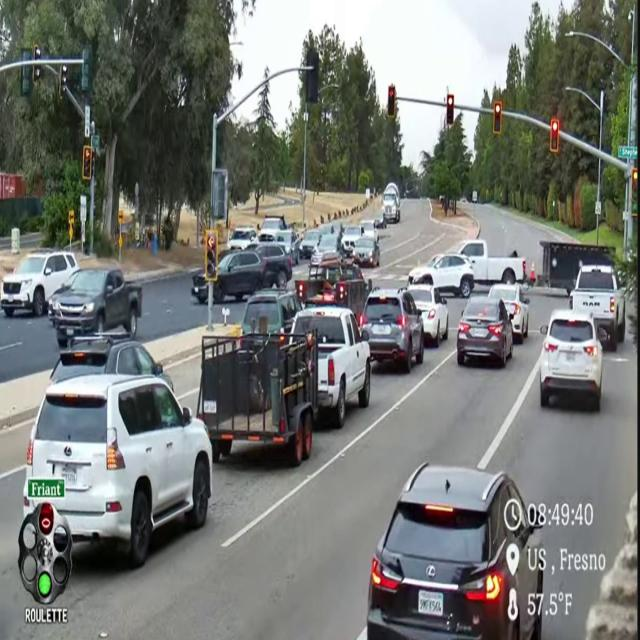car: (24, 375, 212, 567), (367, 463, 543, 639), (50, 333, 173, 390), (540, 310, 606, 411), (359, 288, 424, 373), (0, 251, 78, 317), (457, 296, 513, 366), (241, 289, 301, 341), (408, 255, 474, 298), (407, 284, 449, 346), (489, 284, 529, 343), (311, 234, 342, 264), (352, 237, 380, 267), (227, 227, 257, 250), (341, 225, 363, 255), (300, 229, 320, 259), (361, 220, 378, 243), (374, 209, 387, 229)
traffic signal: (306, 49, 319, 103), (205, 230, 217, 281), (38, 504, 54, 535), (81, 46, 91, 93), (20, 65, 32, 96), (82, 145, 92, 181), (550, 119, 559, 153), (387, 85, 396, 119), (493, 101, 502, 135), (59, 65, 68, 98), (446, 94, 454, 126), (32, 64, 41, 81), (632, 167, 638, 184)
truck: (197, 332, 318, 466), (292, 307, 371, 428), (50, 269, 142, 348), (569, 265, 625, 351), (295, 256, 372, 316), (536, 241, 614, 295), (453, 240, 527, 285), (382, 182, 400, 223), (259, 216, 288, 232)
